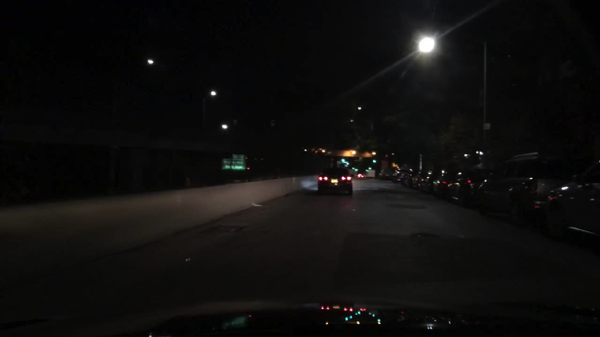car: (475, 152, 571, 228), (542, 160, 599, 241), (444, 166, 495, 207), (431, 160, 462, 197), (316, 167, 354, 197), (418, 163, 443, 192), (409, 170, 428, 188), (400, 171, 415, 188), (390, 169, 409, 182), (378, 167, 394, 177), (356, 173, 365, 179)
traffic light: (340, 155, 345, 164), (372, 156, 377, 165)
traffic sign: (232, 154, 245, 169), (220, 157, 232, 170), (481, 122, 490, 130)
truck: (365, 169, 375, 179)
